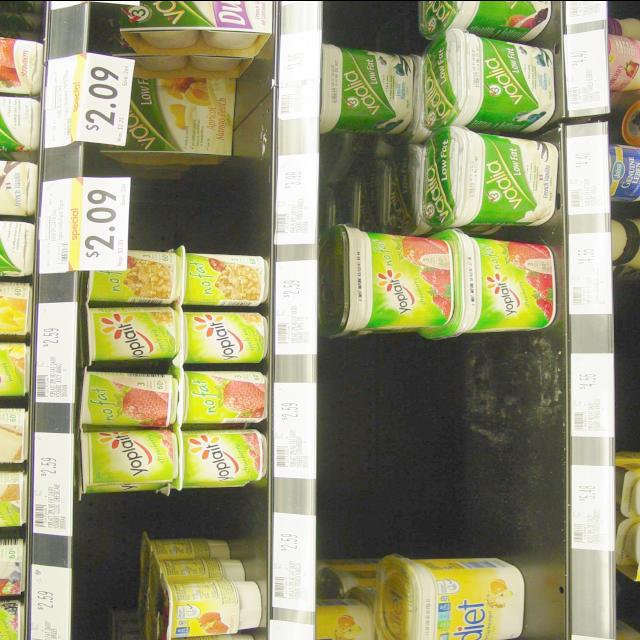empty_space: (325, 336, 560, 546), (134, 155, 270, 245), (83, 491, 265, 557), (78, 557, 162, 635), (334, 141, 404, 223), (232, 58, 274, 150), (326, 0, 409, 43)
